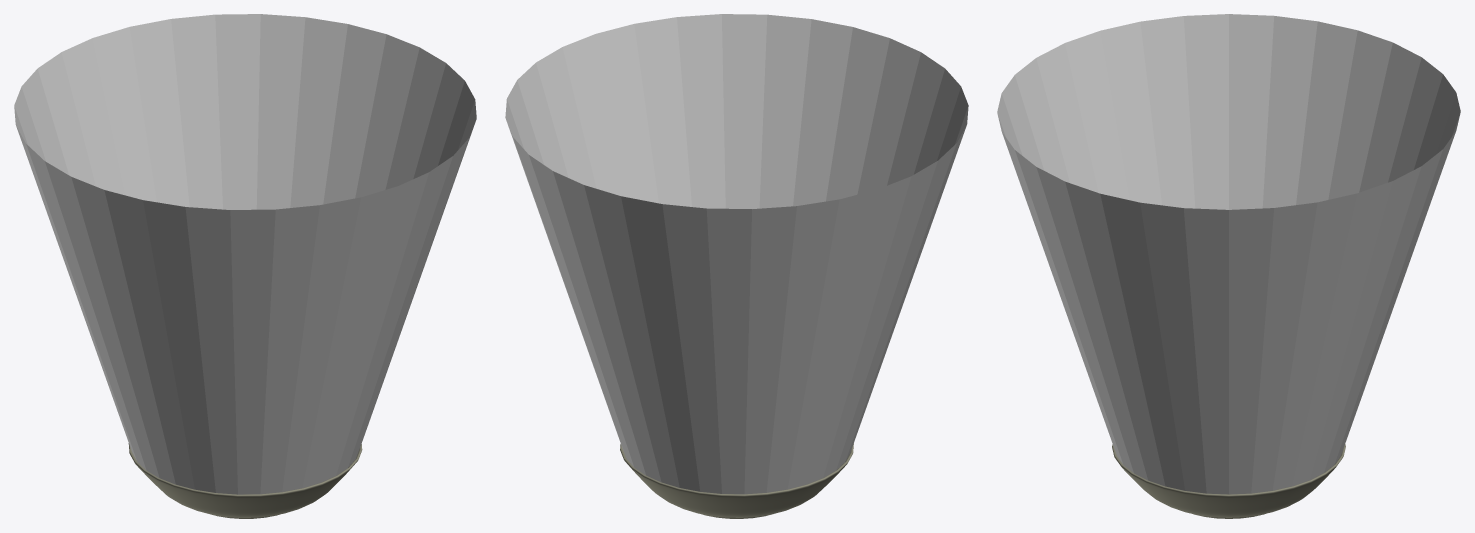
Rendered from __6012-01-PlateMedium.obj.
3 views of the same model, side by side, from view 1: azimuth 30°, elevation 25°; view 2: azimuth 150°, elevation 25°; view 3: azimuth 270°, elevation 25° (orthographic).
Visible parts, largest first — view 1: Vert.004_Vert.001; view 2: Vert.004_Vert.001; view 3: Vert.004_Vert.001.
Part boxes in pixels (<box>): Vert.004_Vert.001: <box>14,14,476,518</box>; Vert.004_Vert.001: <box>505,14,968,518</box>; Vert.004_Vert.001: <box>997,14,1460,518</box>.
Bounding box in the file's own units: 0.4358 × 0.3963 × 0.4358.
